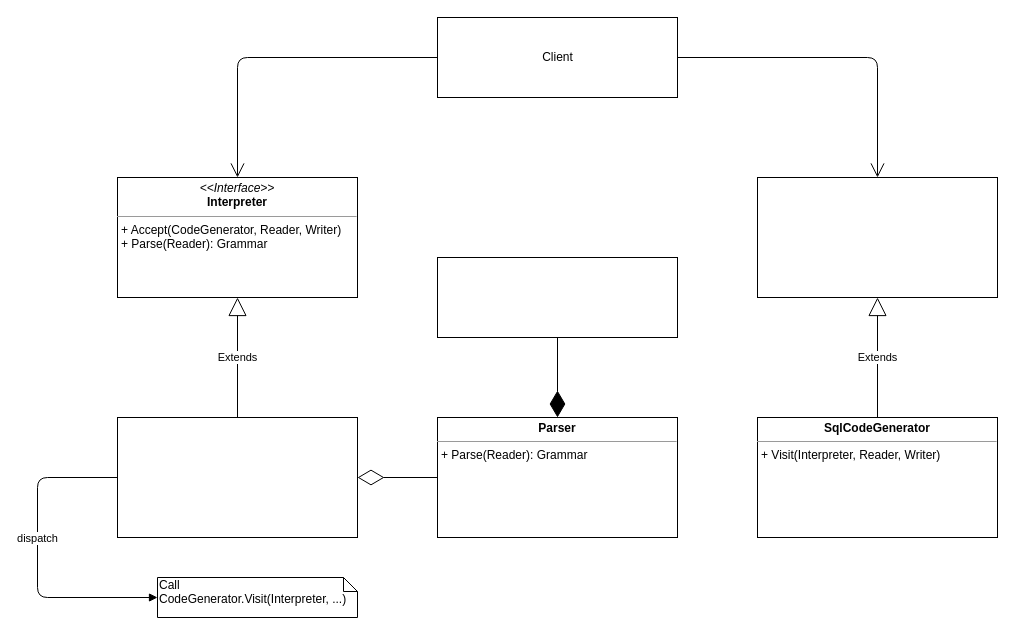
Image size: 1015x635. Some labels were removed from this diagram. Here are the shapes that lost their labels. From the top down, the centre of each, then its label:
At (877,237): "<<Interface>> CodeGenerator + Visit (Interpreter, Reader, Writer)".
At (557,297): "Grammar + Query: {...}".
At (237,477): "Espressopp + Accept(CodeGenerator, Reader, Writer) + Parse(Reader): Grammar".
